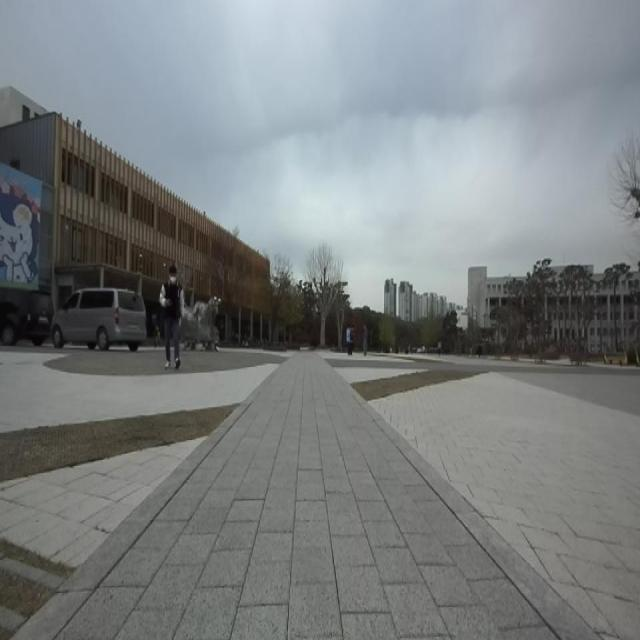sidewalk: (15, 355, 597, 639)
